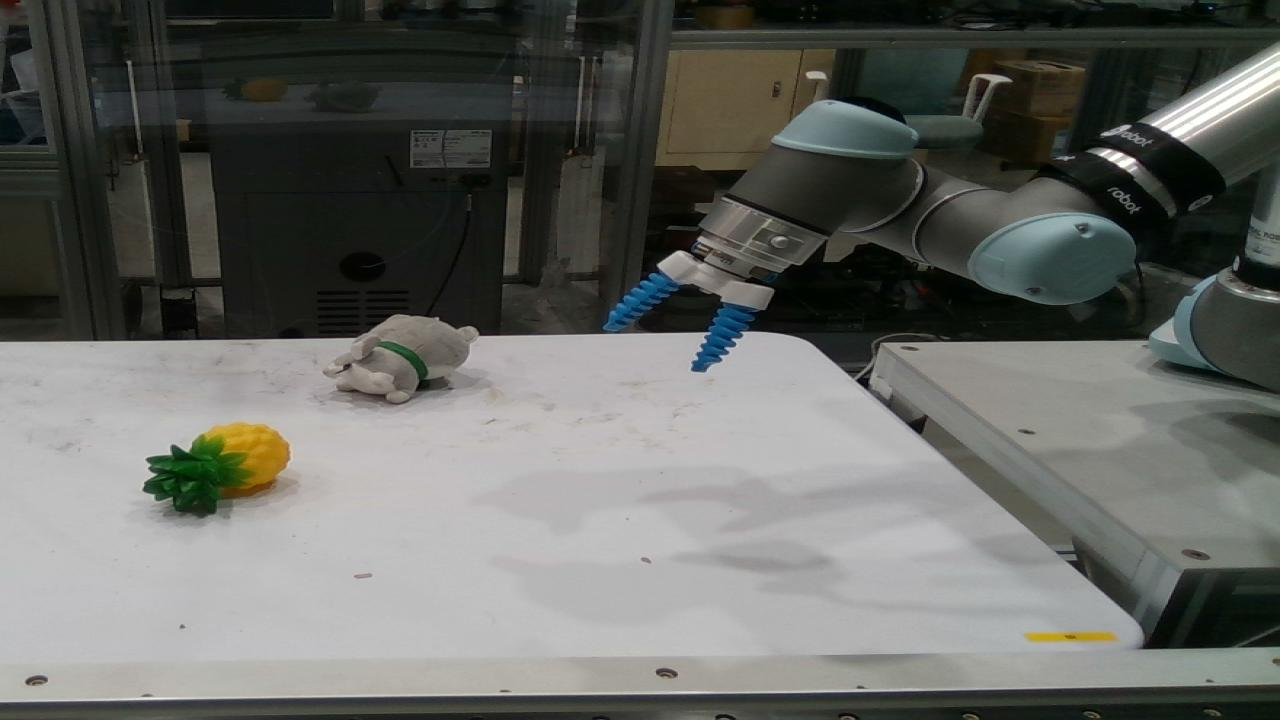UR5: (660, 99, 1276, 387)
gripper_left: (606, 273, 674, 332)
gripper_right: (696, 304, 750, 371)
target: (324, 316, 476, 403), (146, 424, 286, 514)
